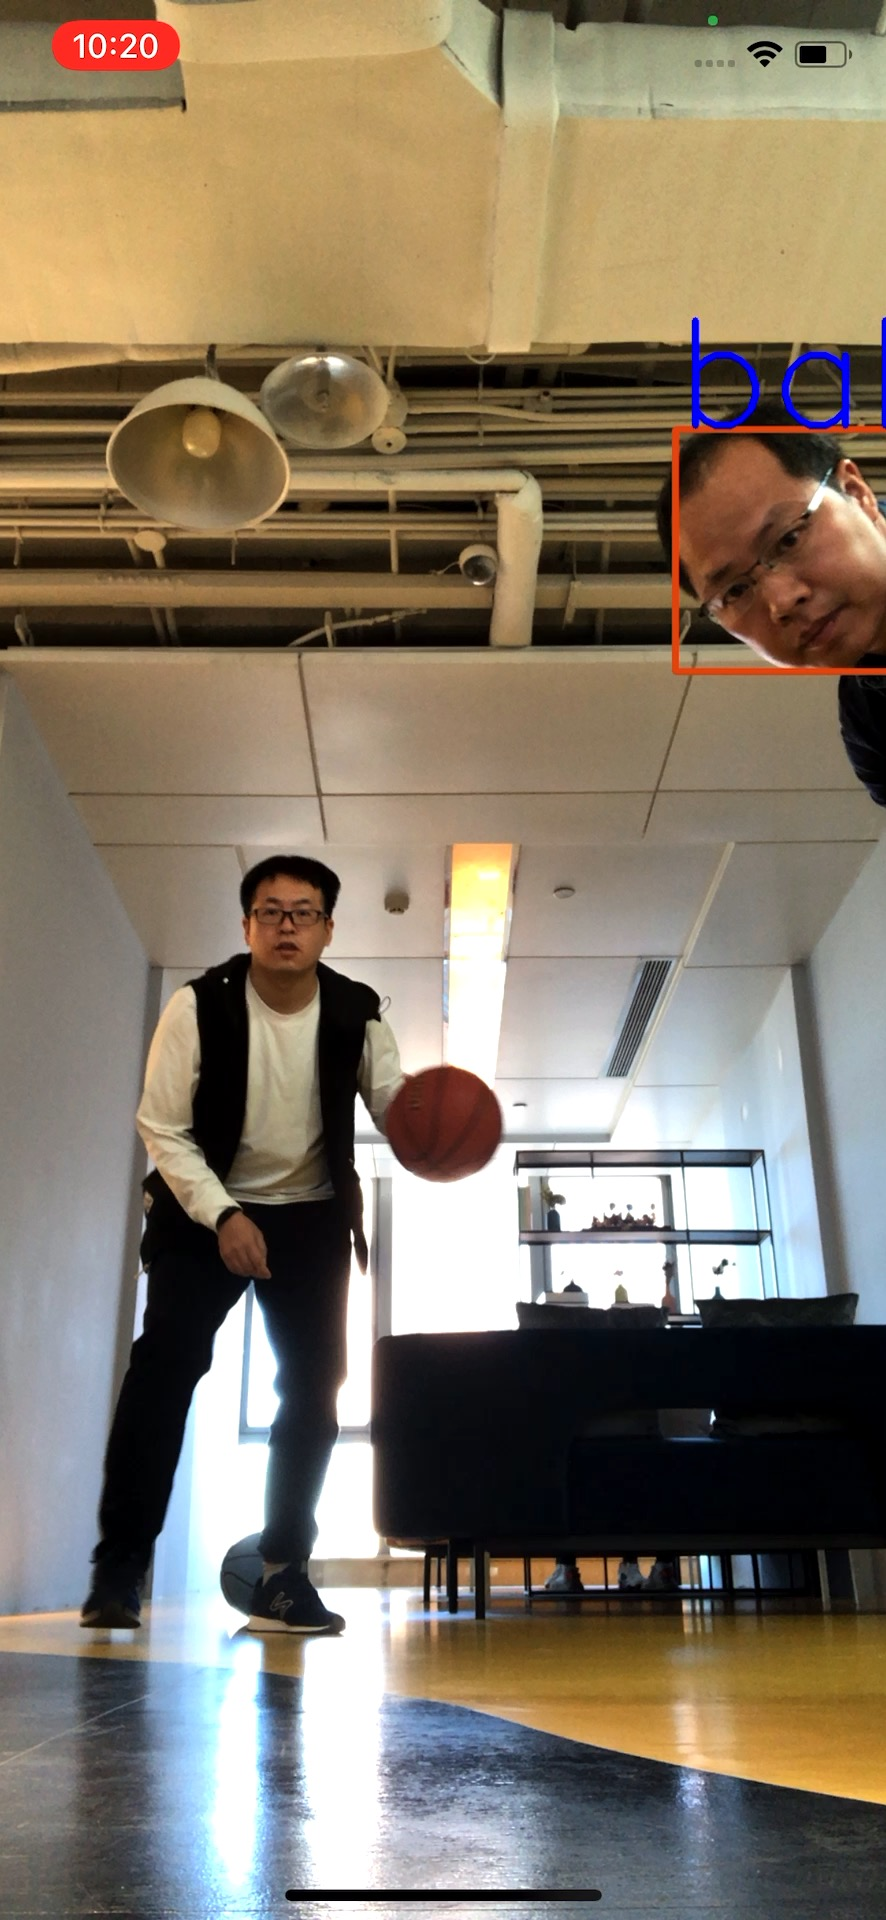ball: (390, 1065, 504, 1184)
